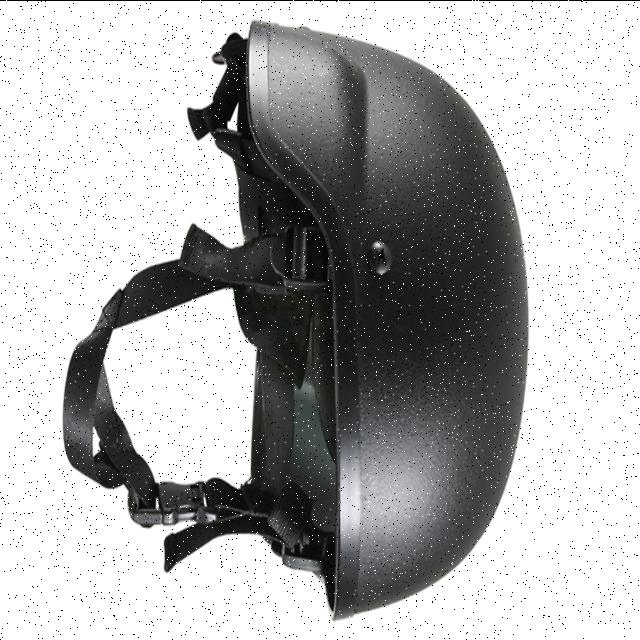Helmet: (64, 20, 528, 618)
